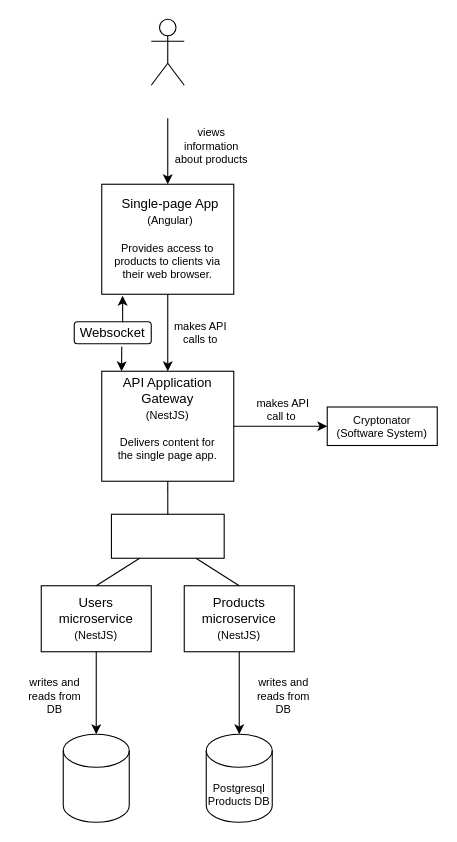
This 457x842 diagram has some shape labels left out. Each missing label, with the centre of its shape:
Client: the point at 167,51
Postgresql Users DB: the point at 95,777
RabbitMQ broker: the point at 167,535
